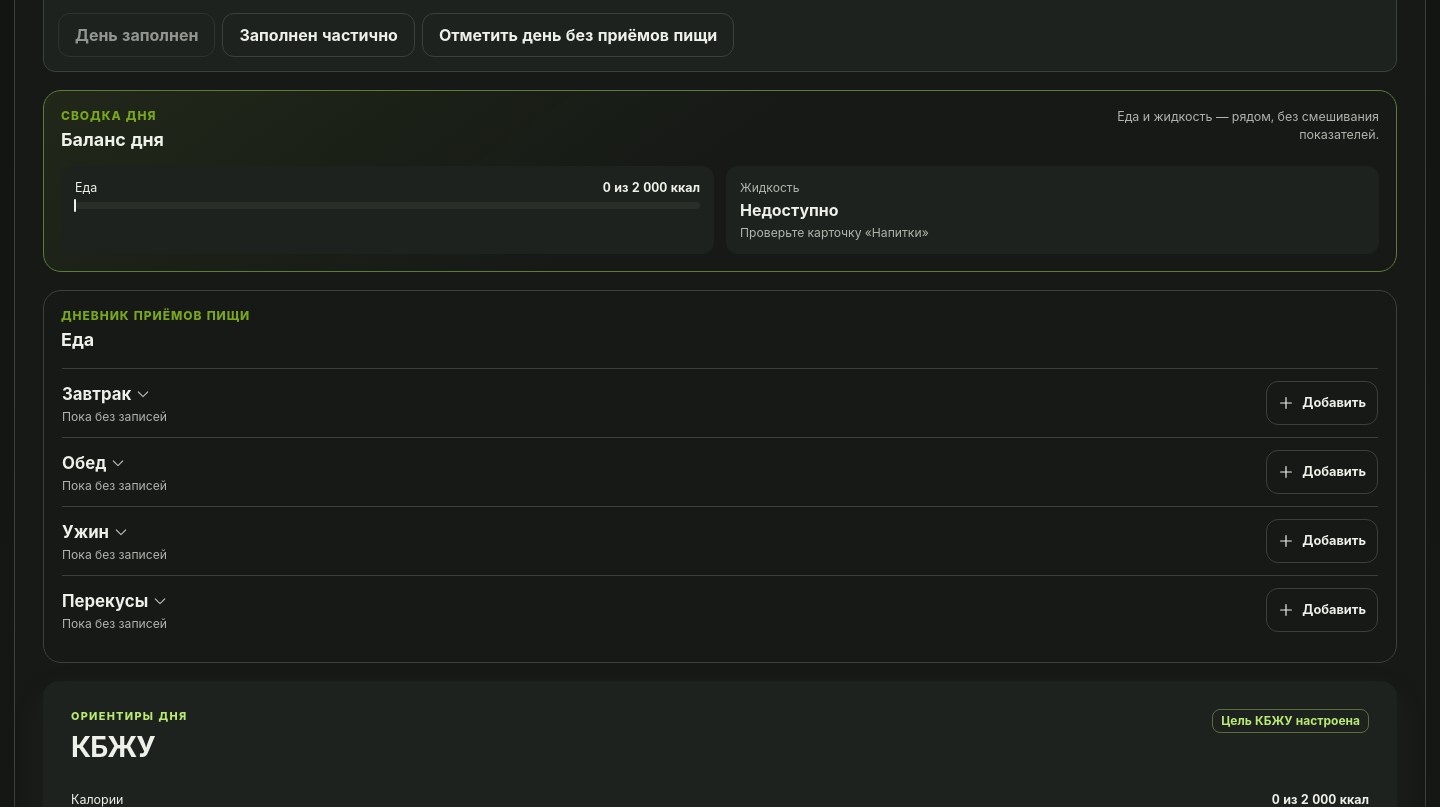
it: NutritionDiary › adds a recent product and reloads the persisted diary
The width and height of the screenshot is (1440, 807).
(page scrolled)
Click the 1st button "Добавить". click: (1322,403)
box: [1266,381,1378,425]
(page scrolled)
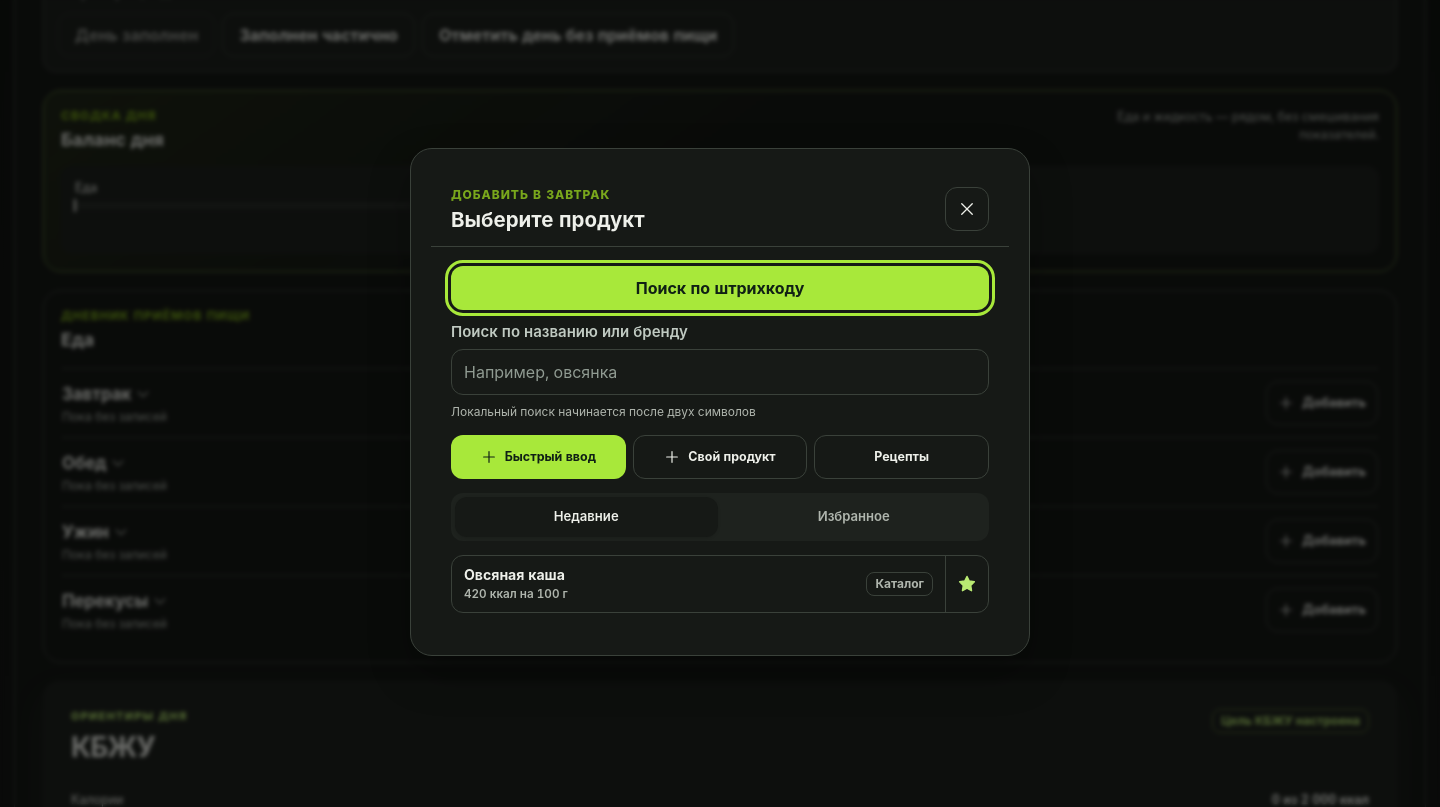
Click the button with aria-label "Добавить Овсяная каша". click: (514,574)
box: [452,556,945,612]
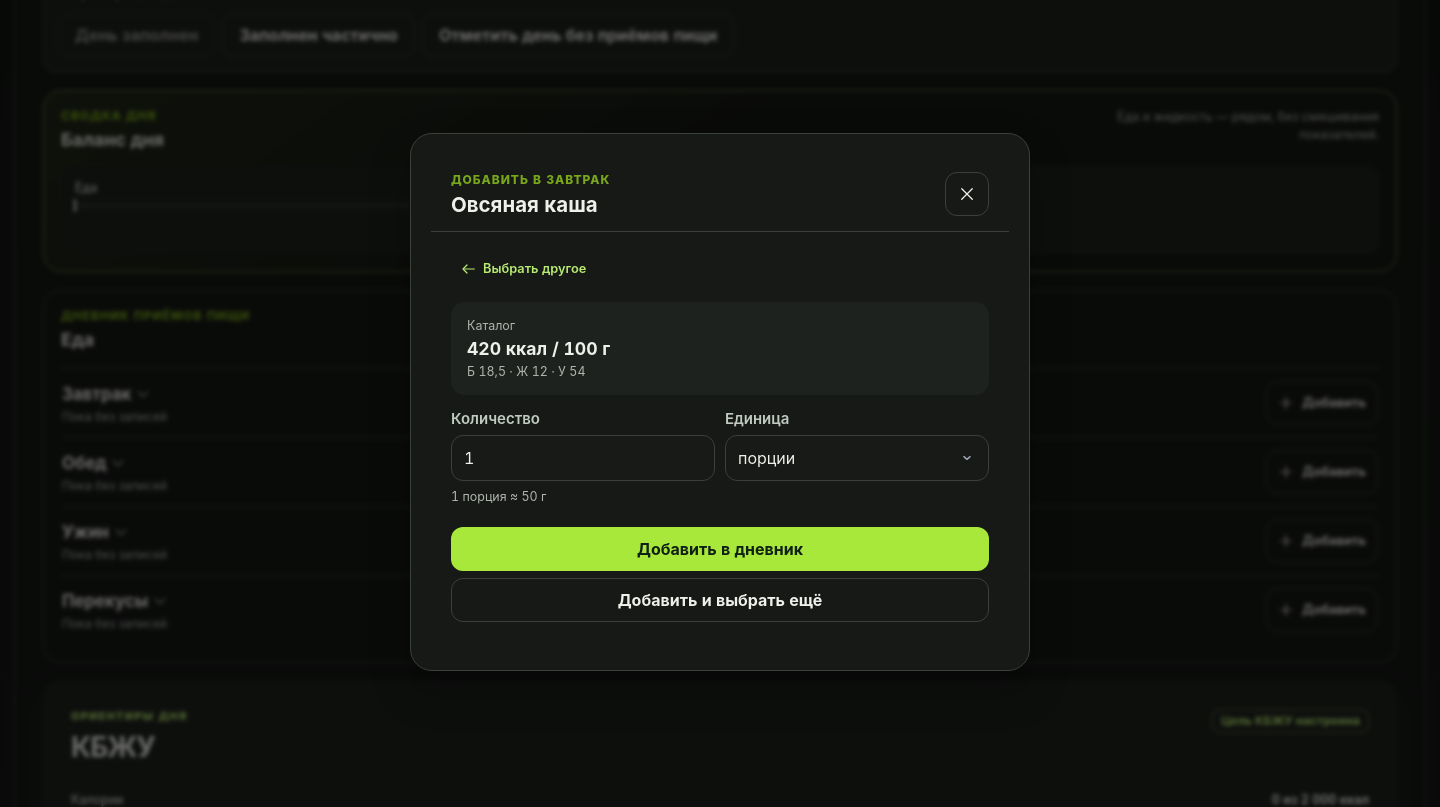
Replace the text in the number field labelled "Количество" with "2". click: (583,458)
box: [451,435,715,481]
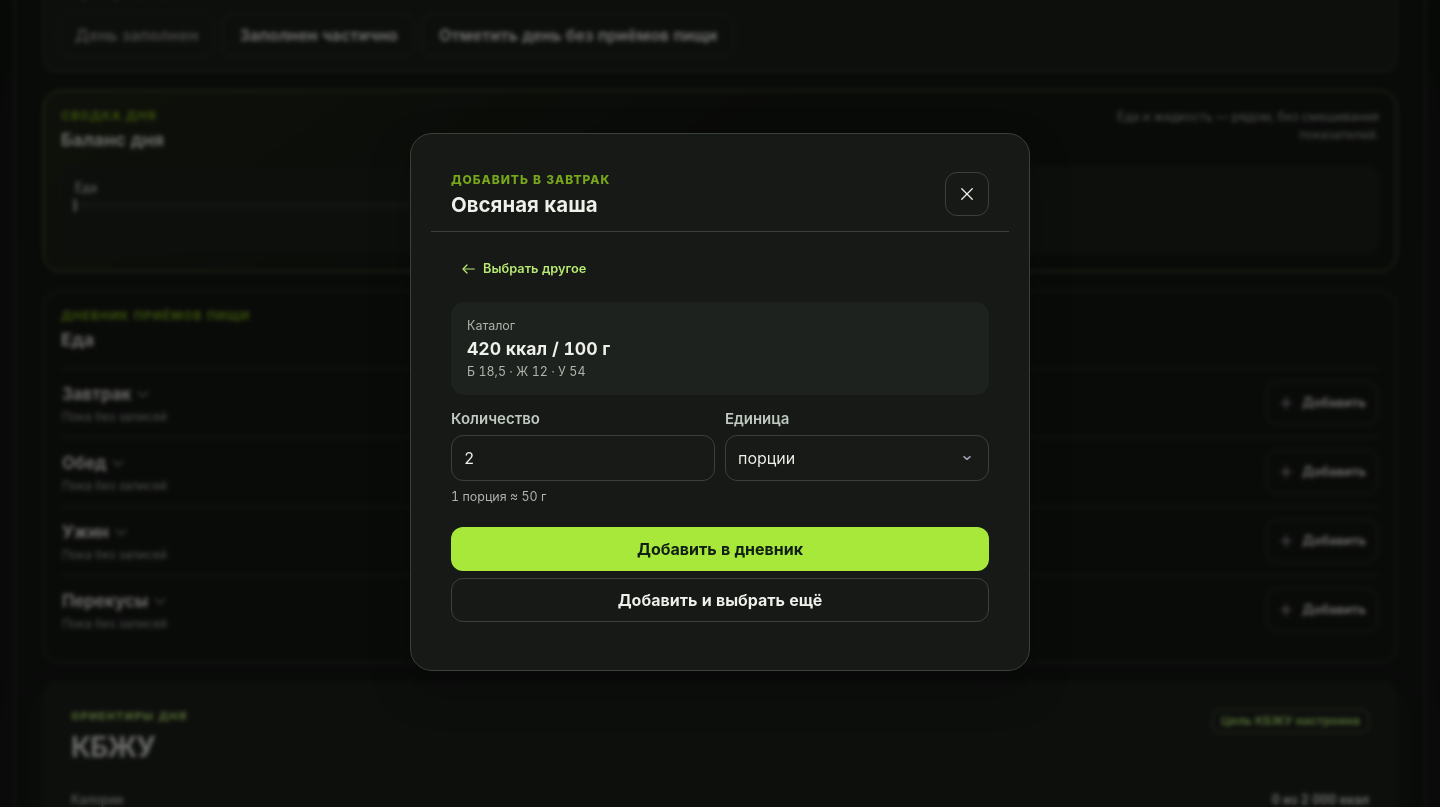
Click the button "Добавить в дневник". click: (720,549)
box: [451,527,989,571]
(page scrolled)
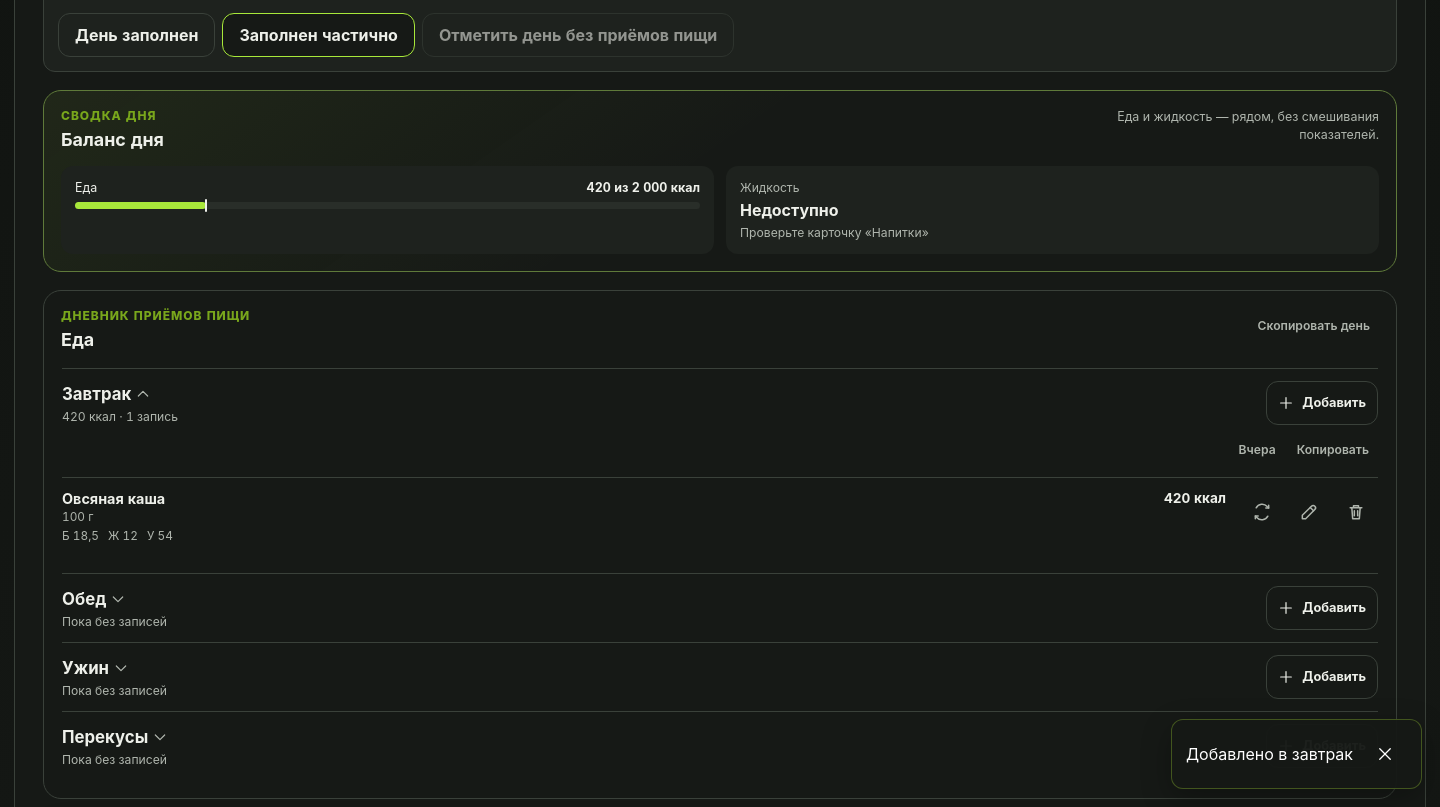
Result: the text "Овсяная каша" is shown at [62,490,165,507]
